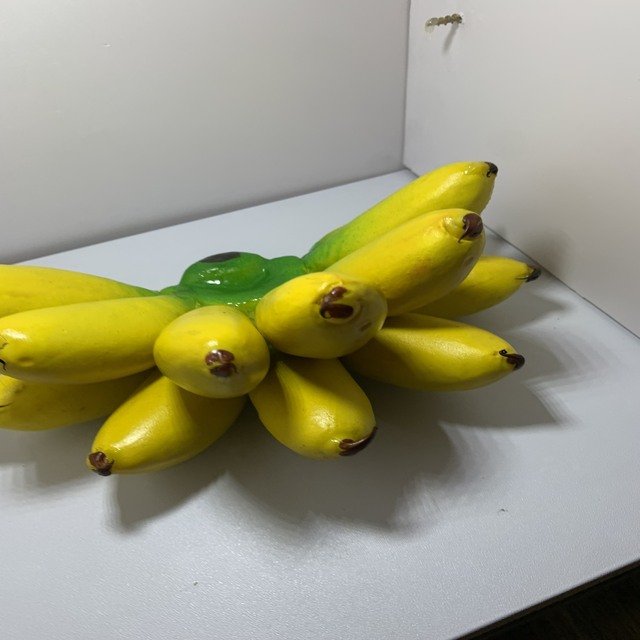Chuoi: (0, 153, 546, 481)
